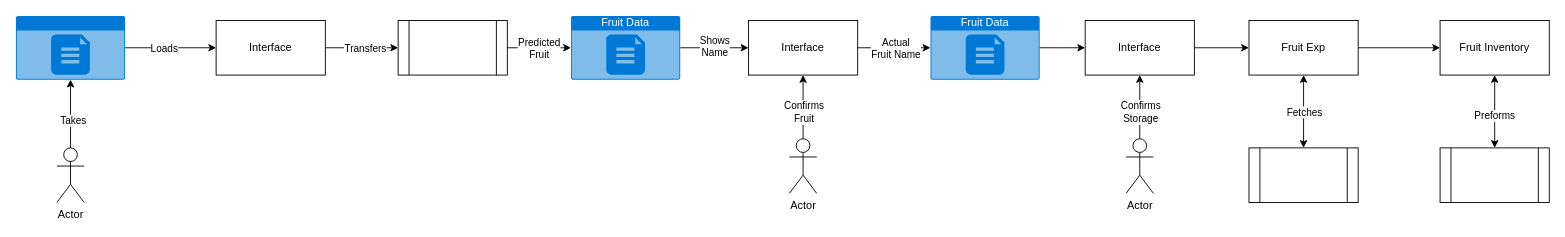
This 1565x237 diagram has some shape labels left out. Here are the shapes that lost their labels. From the top down, the centre of each, then its label:
At (70,47): "Picture".
At (452,47): "AI Model".
At (1303,174): "Get Dates".
At (1494,174): "Load Fruit".
